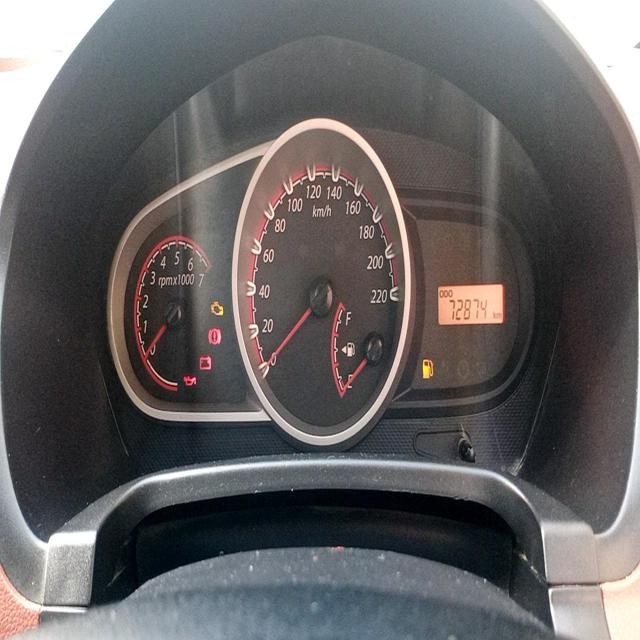odometer: (447, 294, 489, 321)
